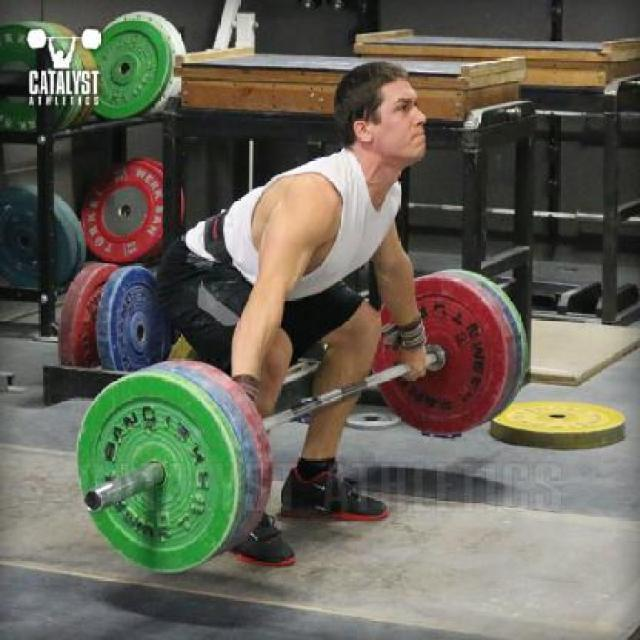barbell: (67, 360, 284, 580)
